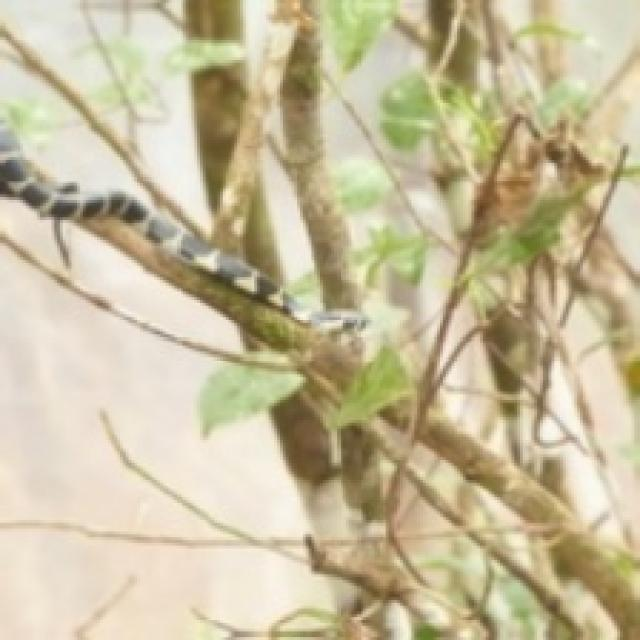king cobra: (0, 140, 366, 332)
